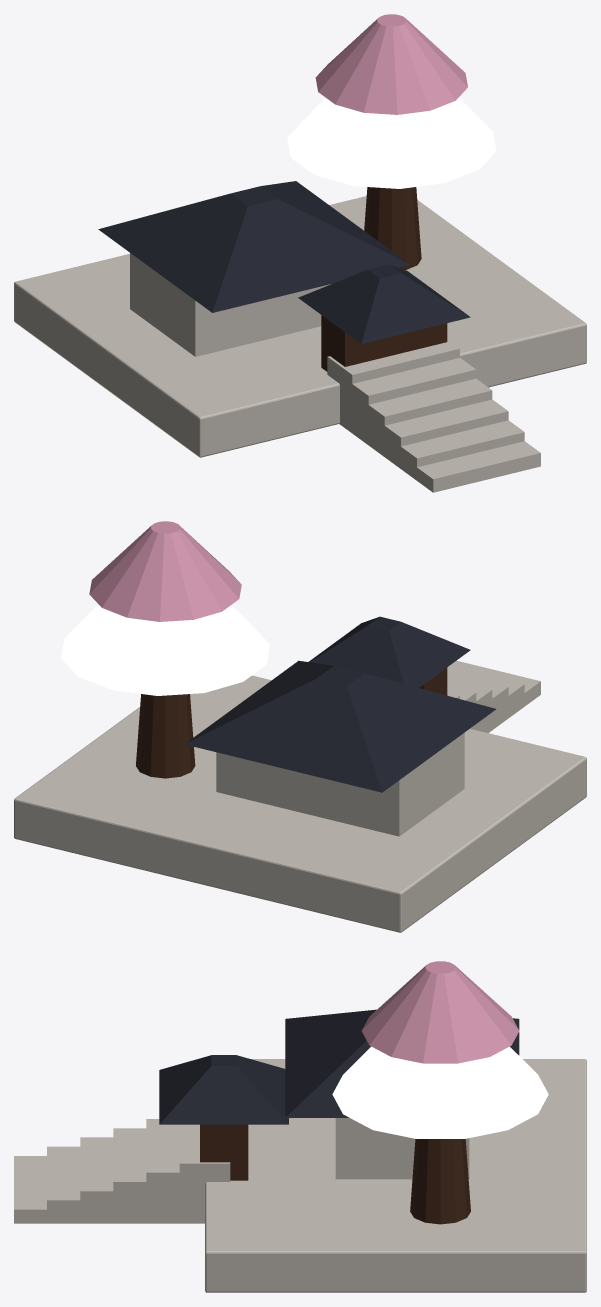
The model's file is hakugyokurou.glb.
3 renders of one model, top to bottom at view 1: azimuth 30°, elevation 25°; view 2: azimuth 150°, elevation 25°; view 3: azimuth 270°, elevation 25°, orthographic. The views are drawn at different scales.
Parts seen in each view (by area): view 1: hakugyokurou_Opaque, hakugyokurou_Emissive; view 2: hakugyokurou_Opaque, hakugyokurou_Emissive; view 3: hakugyokurou_Opaque, hakugyokurou_Emissive.
Boxes of the visible parts, x1=… form: hakugyokurou_Opaque: x1=14, y1=14, x2=586, y2=492; hakugyokurou_Emissive: x1=287, y1=97, x2=496, y2=188; hakugyokurou_Opaque: x1=14, y1=521, x2=586, y2=932; hakugyokurou_Emissive: x1=61, y1=604, x2=269, y2=695; hakugyokurou_Opaque: x1=14, y1=961, x2=586, y2=1292; hakugyokurou_Emissive: x1=332, y1=1046, x2=548, y2=1138.
Size of the model in its own units: 36.79 by 24.75 by 45.
